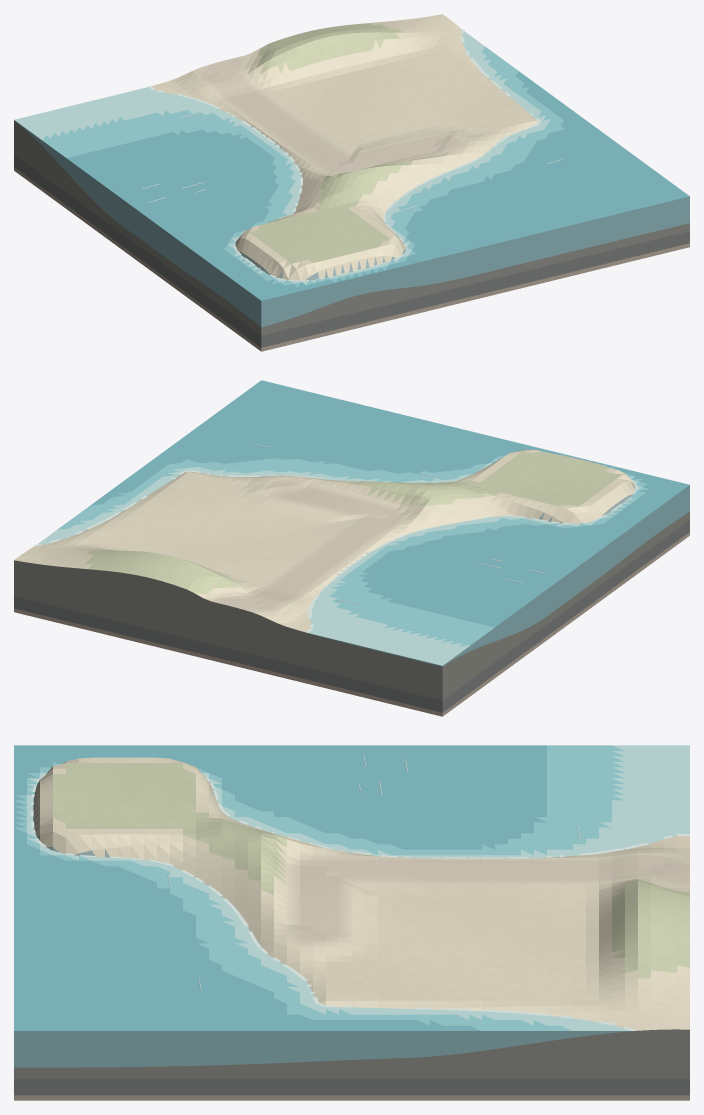
Rendered from D06_proc.glb.
3 renders of one model, top to bottom at view 1: azimuth 30°, elevation 25°; view 2: azimuth 150°, elevation 25°; view 3: azimuth 270°, elevation 25°, orthographic. The views are drawn at different scales.
Visible parts, largest first — view 1: proc_water, proc_ground, proc_skirt, proc_water_side, proc_foam; view 2: proc_water, proc_ground, proc_skirt, proc_water_side, proc_foam; view 3: proc_water, proc_ground, proc_skirt, proc_water_side, proc_foam.
Part boxes in pixels (x1,y1,x2,y2): proc_water: (14, 31, 689, 300); proc_ground: (151, 14, 537, 280); proc_skirt: (14, 121, 689, 351); proc_water_side: (14, 120, 689, 327); proc_foam: (148, 29, 540, 281); proc_water: (37, 380, 689, 665); proc_ground: (14, 449, 635, 632); proc_skirt: (14, 511, 689, 716); proc_water_side: (313, 485, 689, 666); proc_foam: (34, 470, 637, 632); proc_water: (14, 745, 689, 1030); proc_ground: (33, 757, 689, 1030); proc_skirt: (14, 1029, 689, 1100); proc_water_side: (14, 1031, 632, 1067); proc_foam: (30, 774, 689, 1030).
Bounding box in the file's own units: 8.02 × 1.35 × 8.
